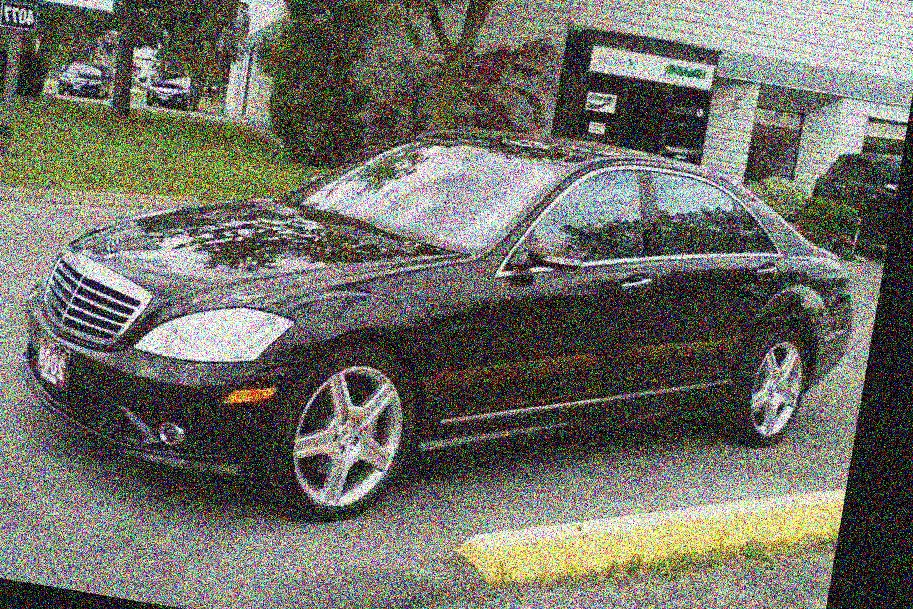car: (0, 39, 887, 609)
